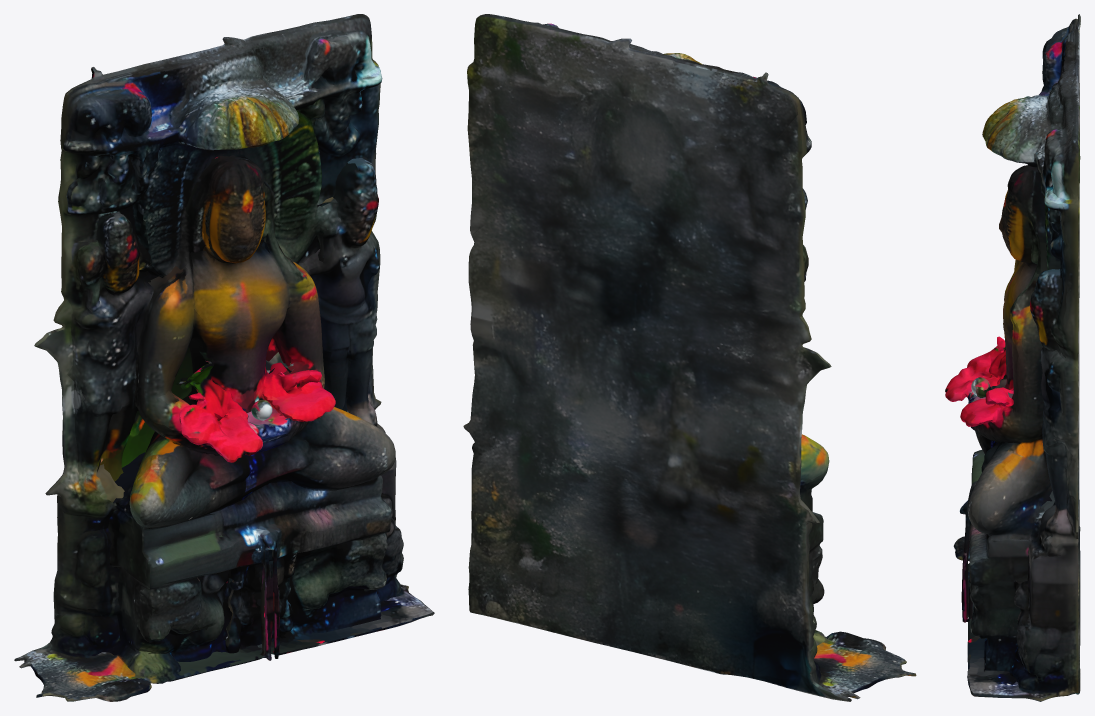
The picture shows the model from 3 angles, left to right: view 1: azimuth 30°, elevation 25°; view 2: azimuth 150°, elevation 25°; view 3: azimuth 270°, elevation 25°; orthographic projection. The views are drawn at different scales.
Parts seen in each view (by area): view 1: textured_mesh; view 2: textured_mesh; view 3: textured_mesh.
Part boxes in pixels (box(x1,y1,x2,y2)): textured_mesh: box(14, 14, 434, 701); textured_mesh: box(463, 14, 916, 701); textured_mesh: box(945, 14, 1080, 701).
Size of the model in its own units: 3.37 by 4.72 by 1.06.
Materials: 1 (1 with a texture image).
